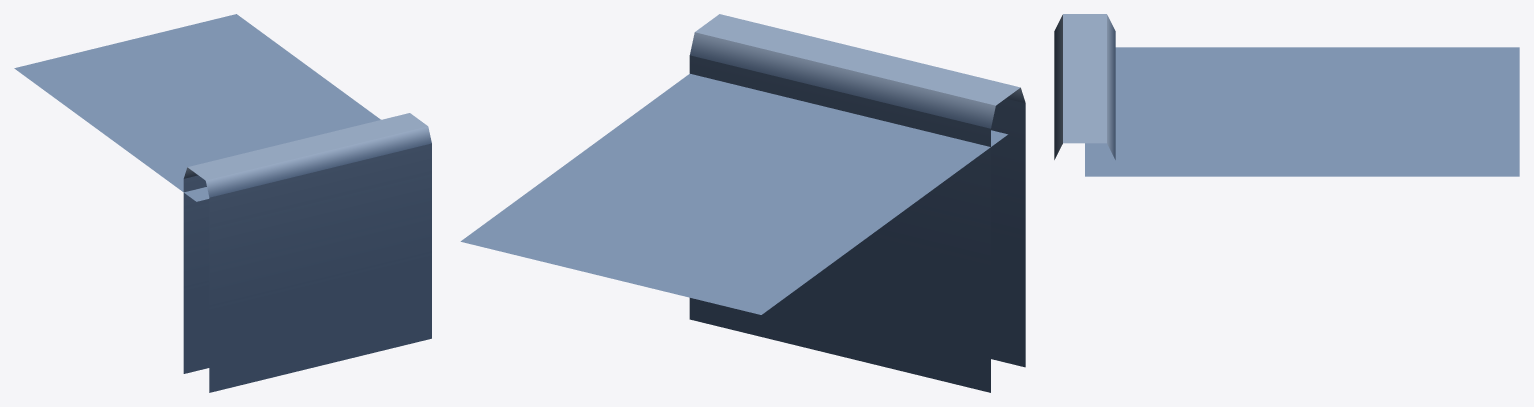
File: Base_Straight.fbx
3 views of the same model, side by side, from view 1: azimuth 30°, elevation 25°; view 2: azimuth 150°, elevation 25°; view 3: azimuth 270°, elevation 25° (orthographic). The views are drawn at different scales.
Visible parts, largest first — view 1: Base_Straight; view 2: Base_Straight; view 3: Base_Straight.
Part boxes in pixels (box(x1,y1,x2,y2)): Base_Straight: box(14, 14, 431, 392); Base_Straight: box(460, 14, 1025, 392); Base_Straight: box(1054, 14, 1519, 176).
Size of the model in its own units: 50 by 45 by 76.
1 material, 1 textured.
